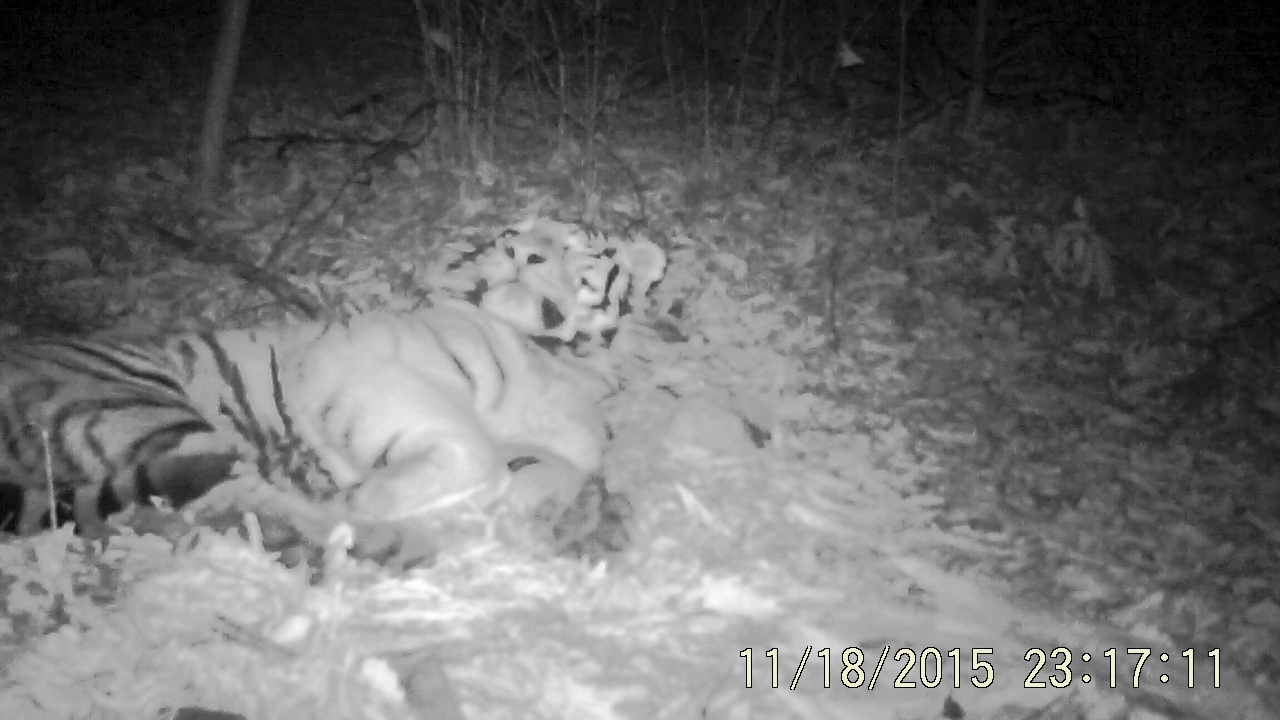Tiger: (2, 145, 785, 596)
